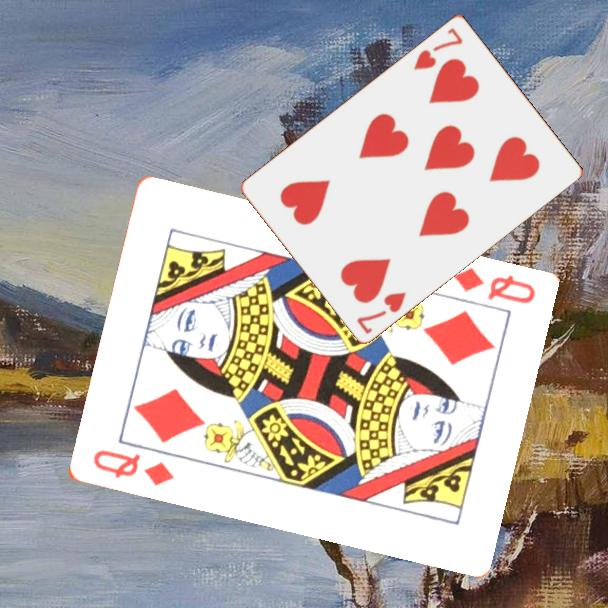d12: (89, 446, 176, 490), (449, 264, 538, 307)
h07: (410, 23, 466, 73), (353, 288, 409, 337)
